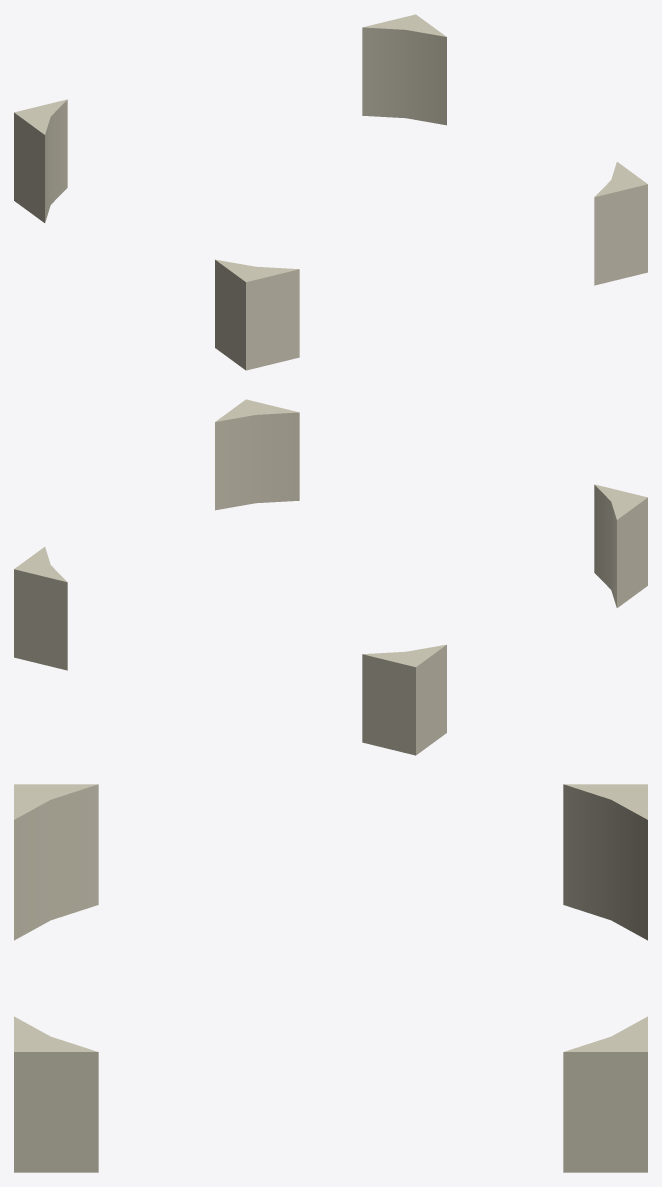
Rendered from tile222.fbx.
The picture shows the model from 3 angles, top to bottom: view 1: azimuth 30°, elevation 25°; view 2: azimuth 150°, elevation 25°; view 3: azimuth 270°, elevation 25°; orthographic projection. The views are drawn at different scales.
Visible parts, largest first — view 1: tile222; view 2: tile222; view 3: tile222.
Boxes of the visible parts, x1,y1,x2,y2 form: tile222: [14, 14, 647, 370]; tile222: [14, 399, 647, 755]; tile222: [14, 784, 647, 1172].
Size of the model in its own units: 10 by 2.1 by 10.
